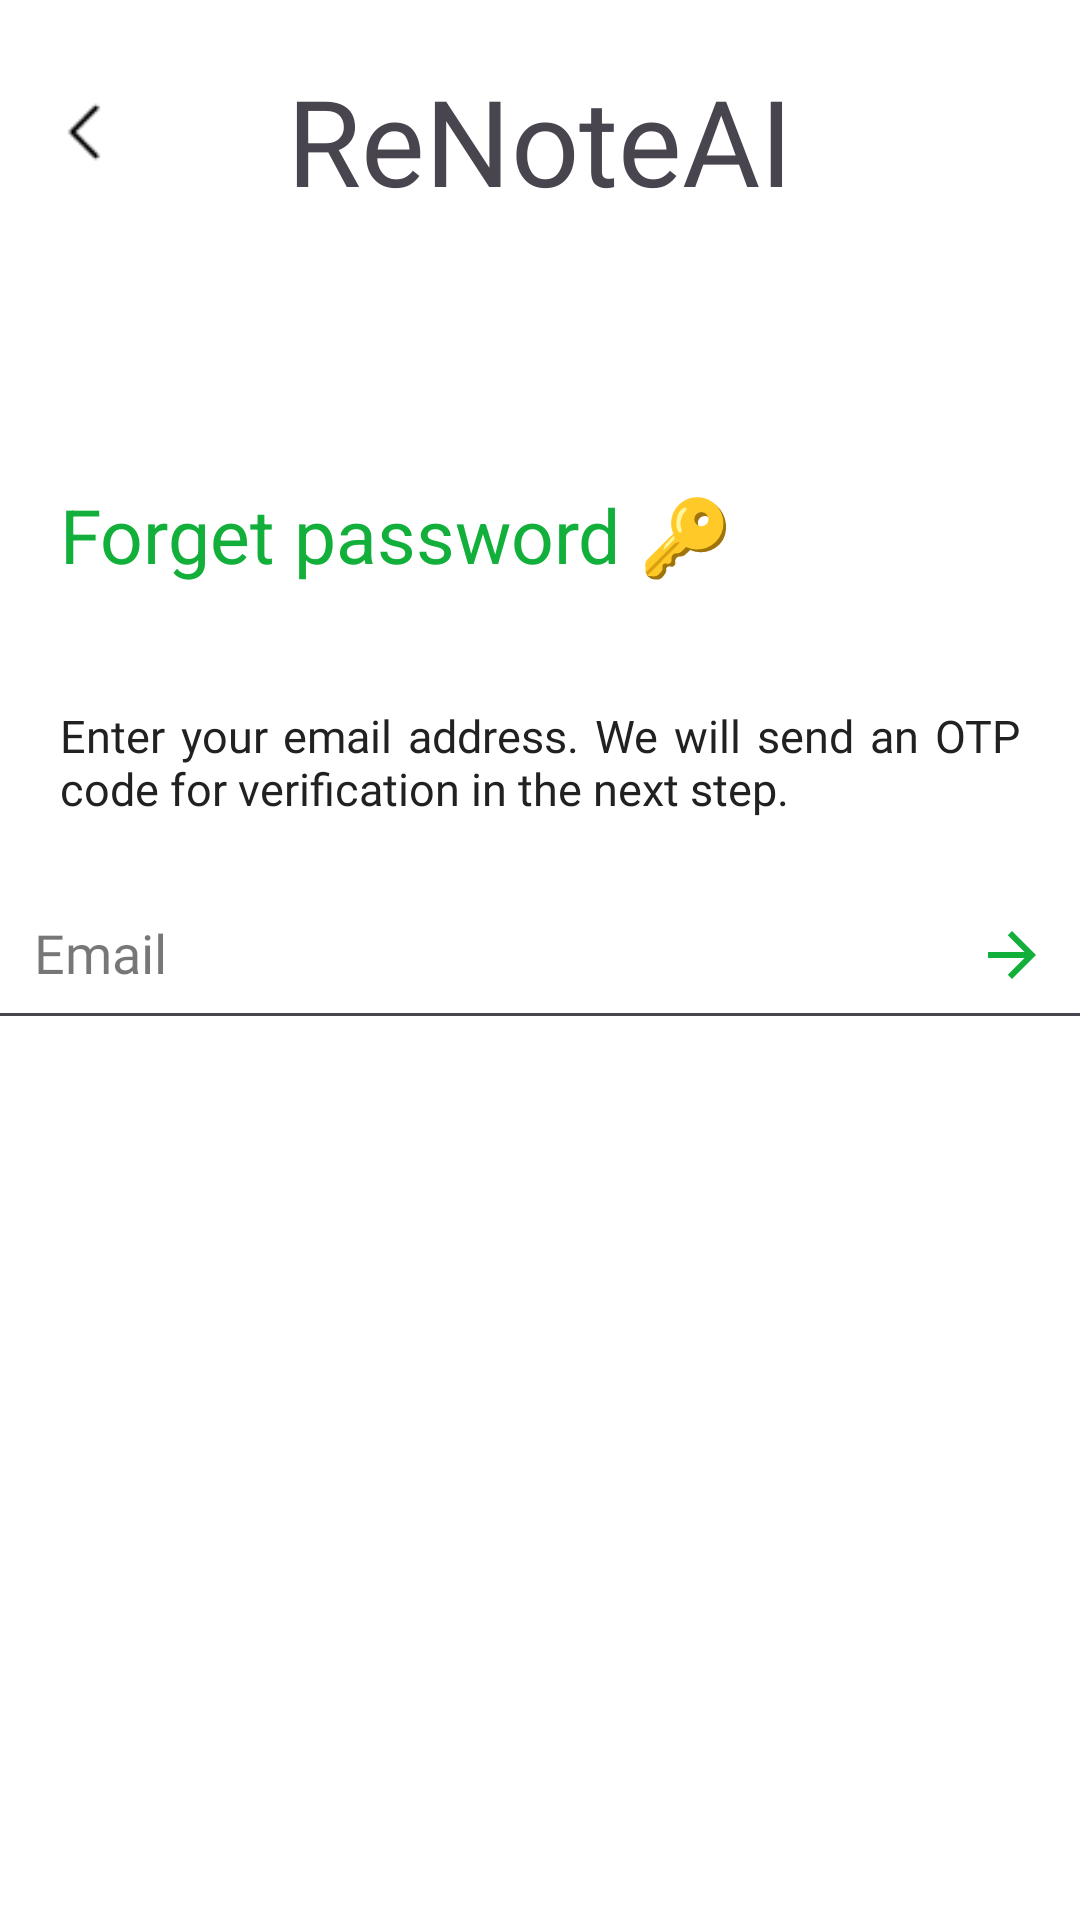

Where to tap for icons on this 1080px x 1920px app screen, as (x=x, y=y):
back: (x=84, y=132)
